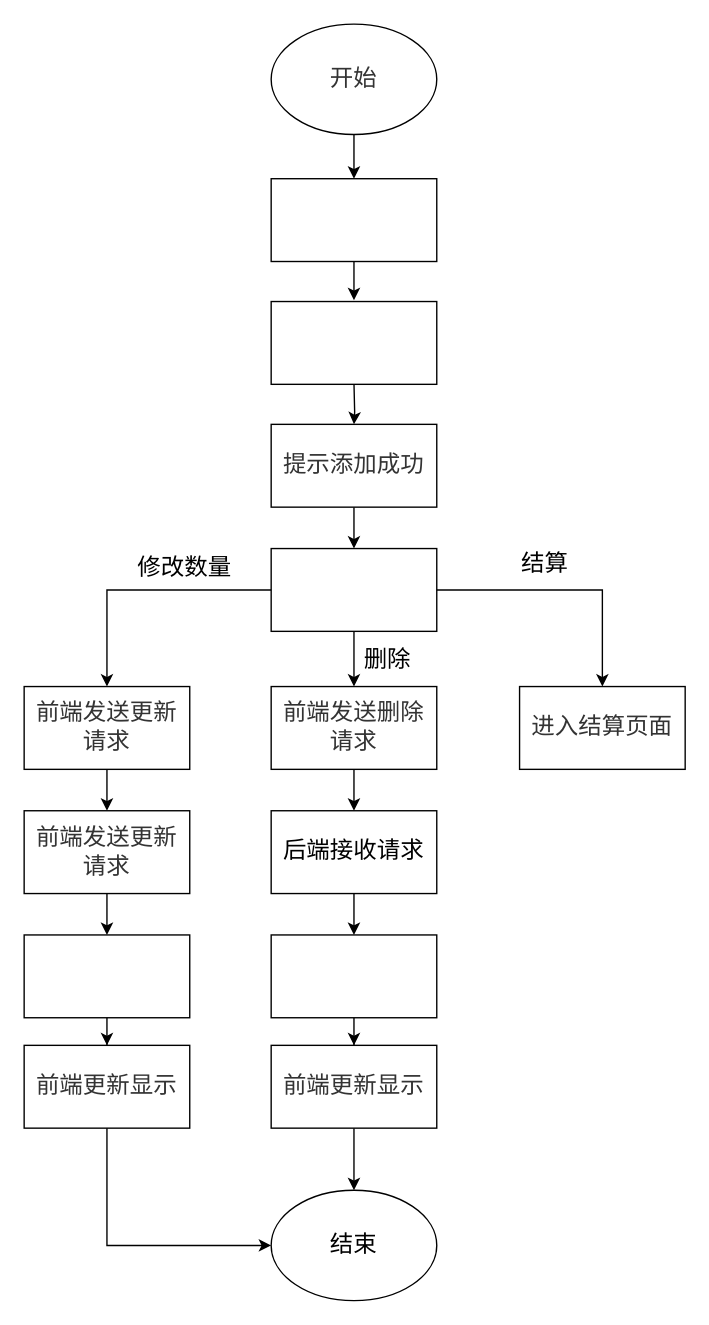
Image size: 709x1325. Some labels were removed from this diagram. The centre of each missing label's shape, as x and y in pixels:
点击加入购物车: the point at 353,342
购物车表删除记录: the point at 353,976
购物车表更新记录: the point at 106,976
进入商品详情页: the point at 353,219
进入购物车页面: the point at 353,589
